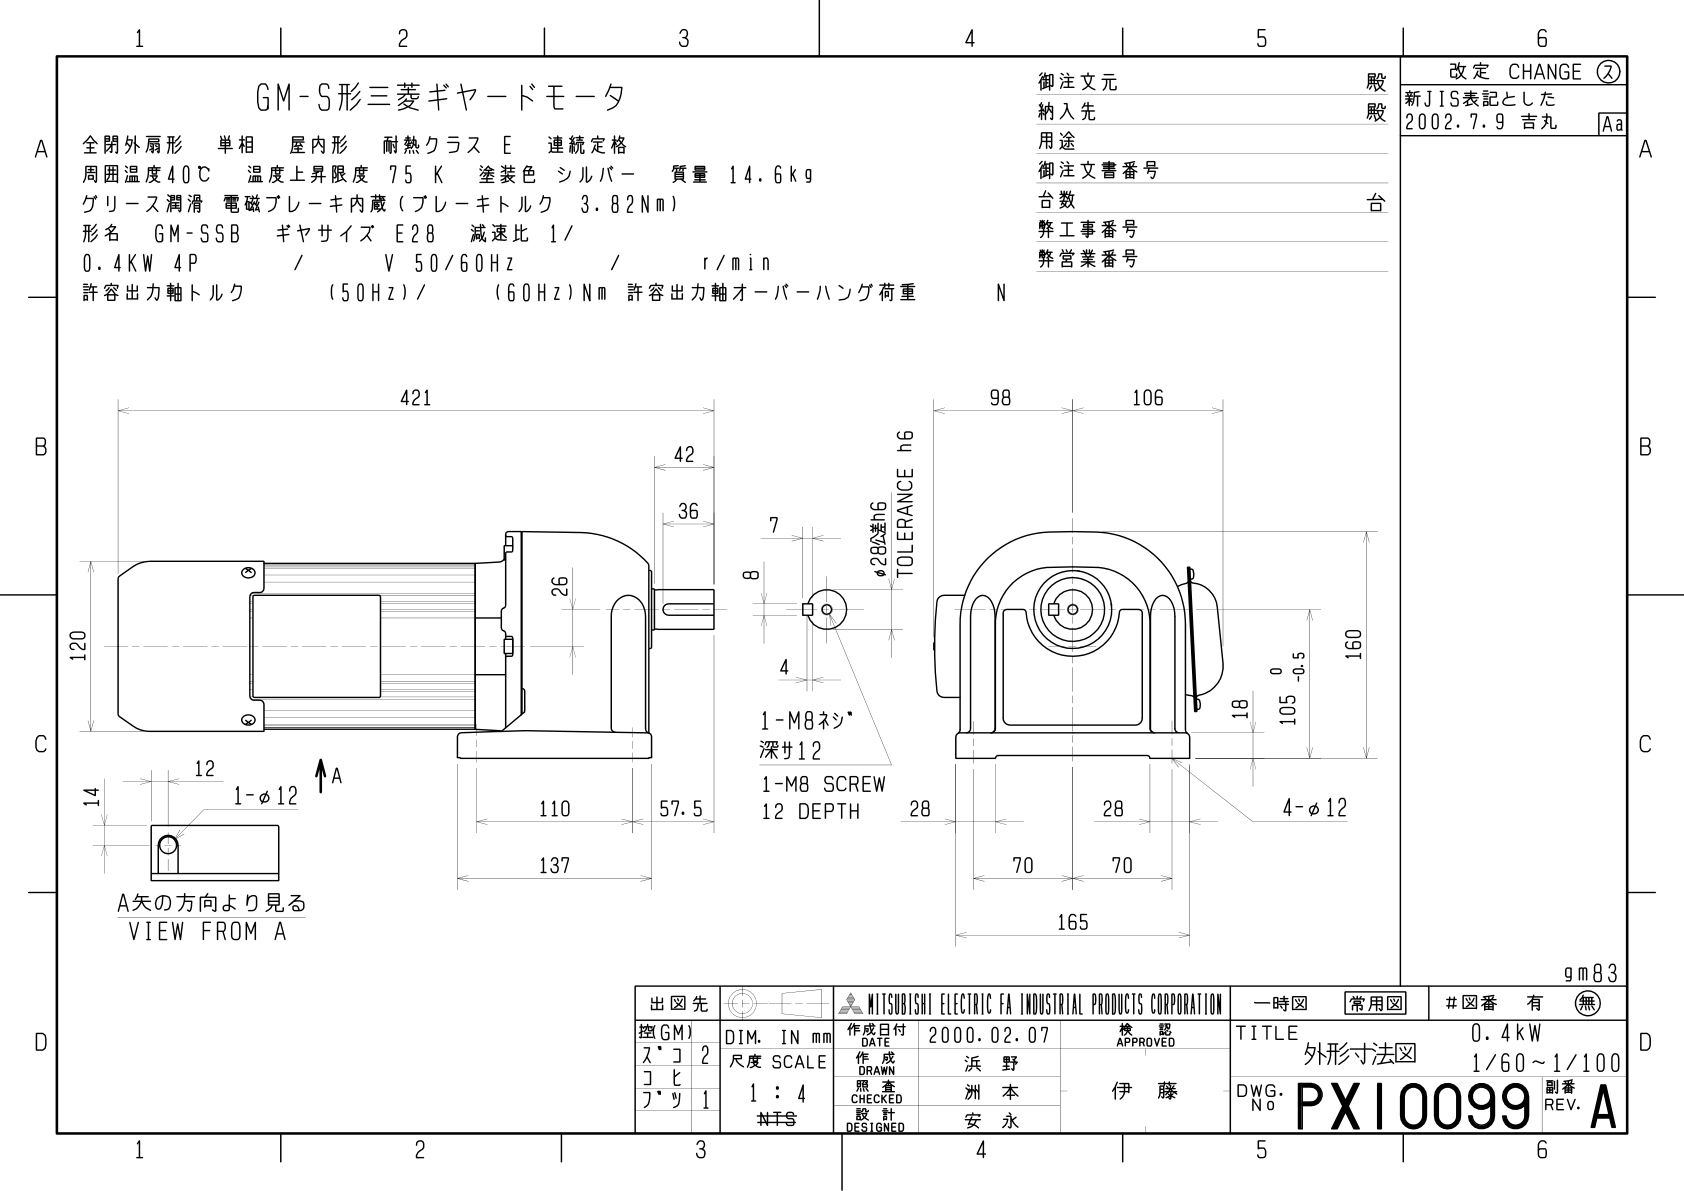GM_S_屋内＿三相_脚: (64, 347, 1389, 962)
